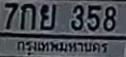3: (70, 4, 83, 30)
5: (86, 4, 100, 30)
7: (4, 2, 17, 28)
8: (103, 6, 115, 30)
A01: (19, 2, 35, 29)
A34: (39, 3, 56, 29)
BKK: (13, 38, 110, 57)
